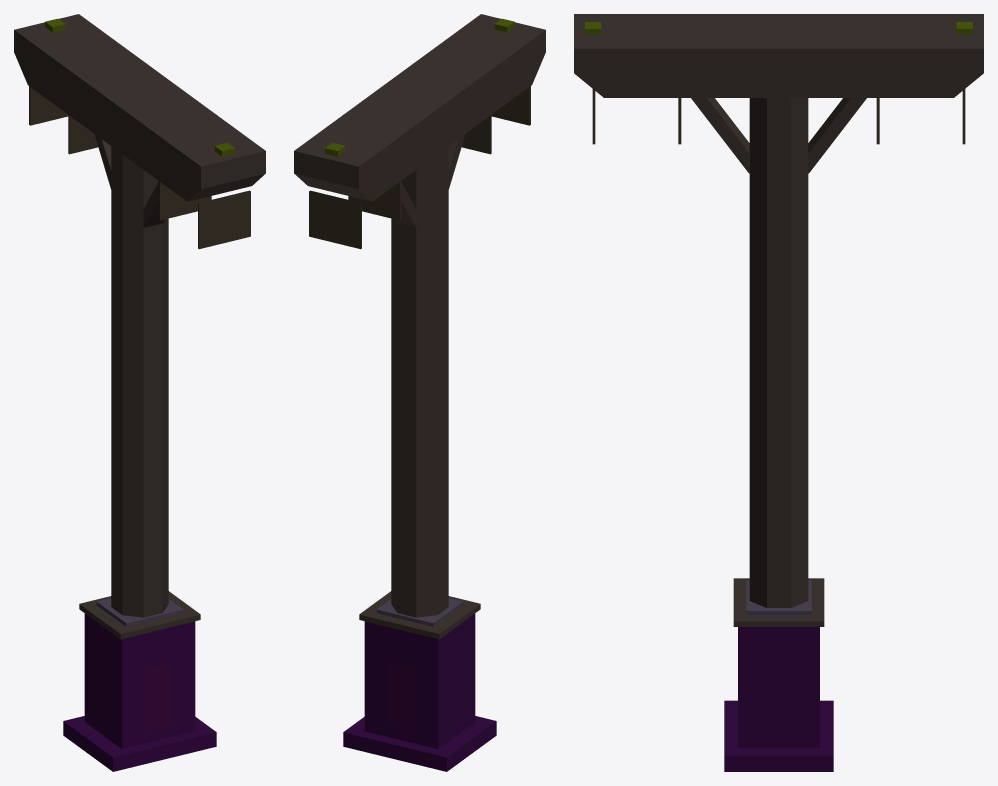
File: monorail_pier.glb
The picture shows the model from 3 angles, left to right: view 1: azimuth 30°, elevation 25°; view 2: azimuth 150°, elevation 25°; view 3: azimuth 270°, elevation 25°; orthographic projection. The views are drawn at different scales.
Parts seen in each view (by area): view 1: monorail_pier; view 2: monorail_pier; view 3: monorail_pier.
Part boxes in pixels (x1=…): monorail_pier: x1=14, y1=14, x2=265, y2=771; monorail_pier: x1=294, y1=14, x2=545, y2=771; monorail_pier: x1=574, y1=14, x2=983, y2=771.
Bounding box in the file's own units: 2.4 × 14.52 × 7.5.
